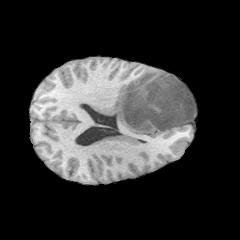glioma: (87, 71, 182, 136)
